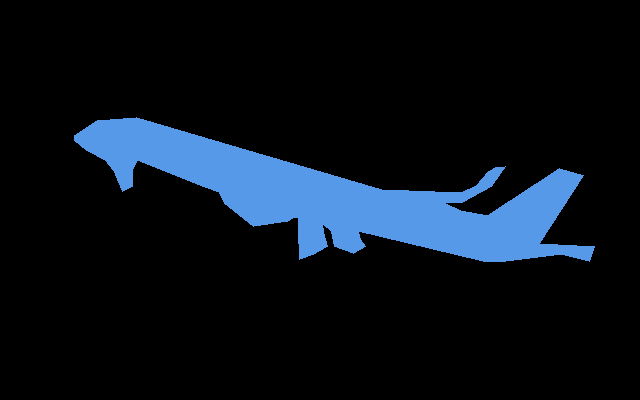Airplane: (74, 117, 595, 261)
